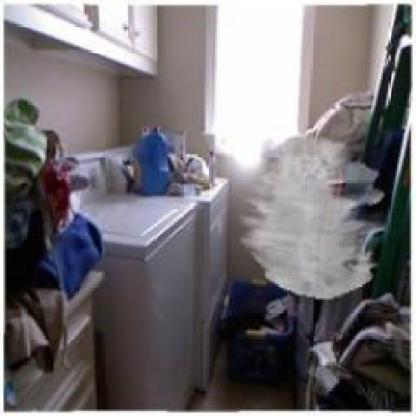Smoke: (237, 135, 385, 300)
